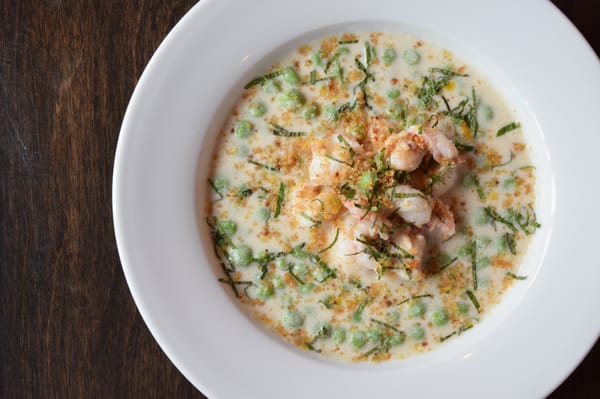curry: (3, 2, 593, 397)
sandwich: (207, 26, 570, 366)
